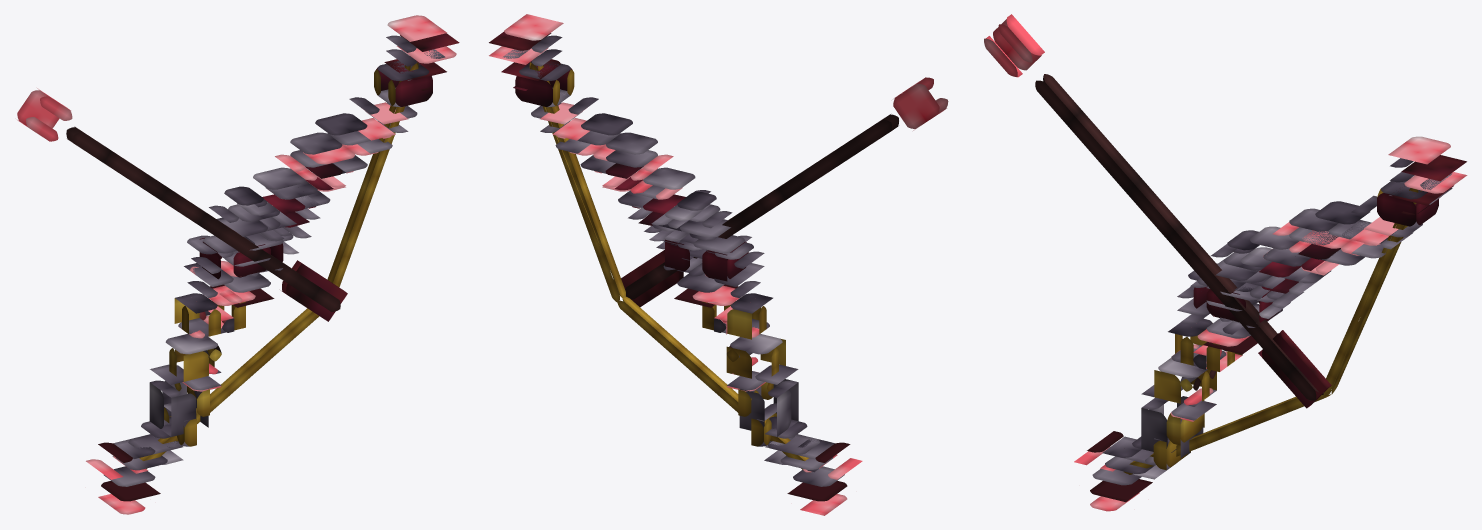
The model's file is crimson_bow_pulling_1.obj.
3 views of the same model, side by side, from view 1: azimuth 30°, elevation 25°; view 2: azimuth 150°, elevation 25°; view 3: azimuth 330°, elevation 25° (orthographic). The views are drawn at different scales.
Visible parts, largest first — view 1: lit, fire; view 2: lit, fire; view 3: lit, fire.
Part boxes in pixels (bbox=[...]): lit: bbox=[17, 15, 459, 514]; fire: bbox=[282, 260, 347, 321]; lit: bbox=[489, 14, 948, 515]; fire: bbox=[621, 250, 683, 307]; lit: bbox=[984, 14, 1467, 511]; fire: bbox=[1258, 330, 1331, 408].
Size of the model in its own units: 1.1 by 1.06 by 0.125.
